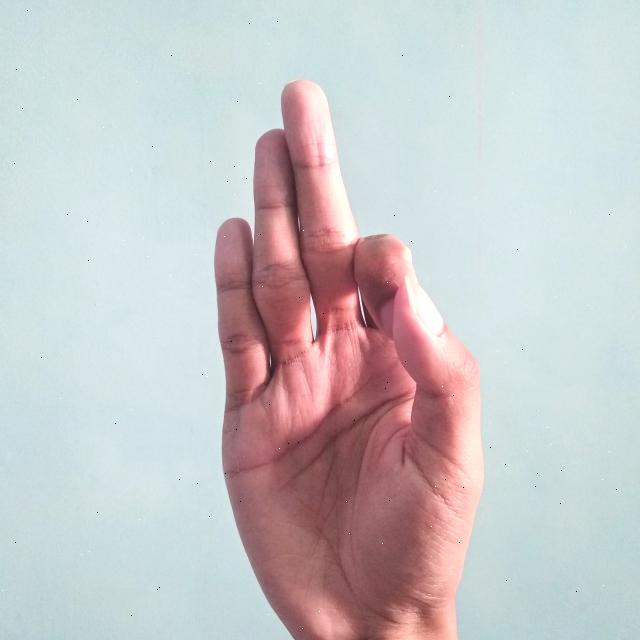F: (212, 74, 485, 640)
